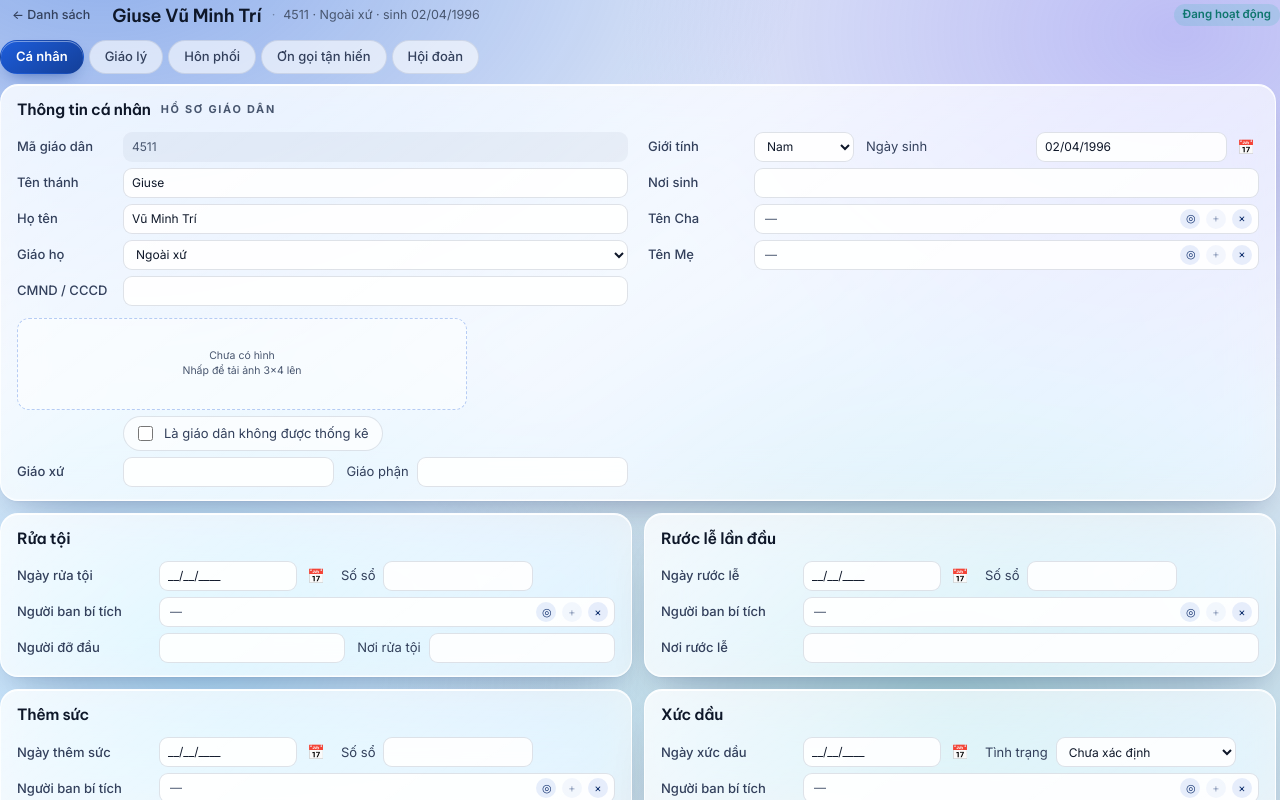
Test: GiaoDanDetailPage › xung dot RowVersion khi luu hon phoi hien thong bao tieng Viet
The image size is (1280, 800).
Check: the heading "Giuse Vũ Minh Trí" is shown, box [112, 2, 262, 28]
Click the tab "Hôn phối": (212, 57) [168, 40, 256, 74]
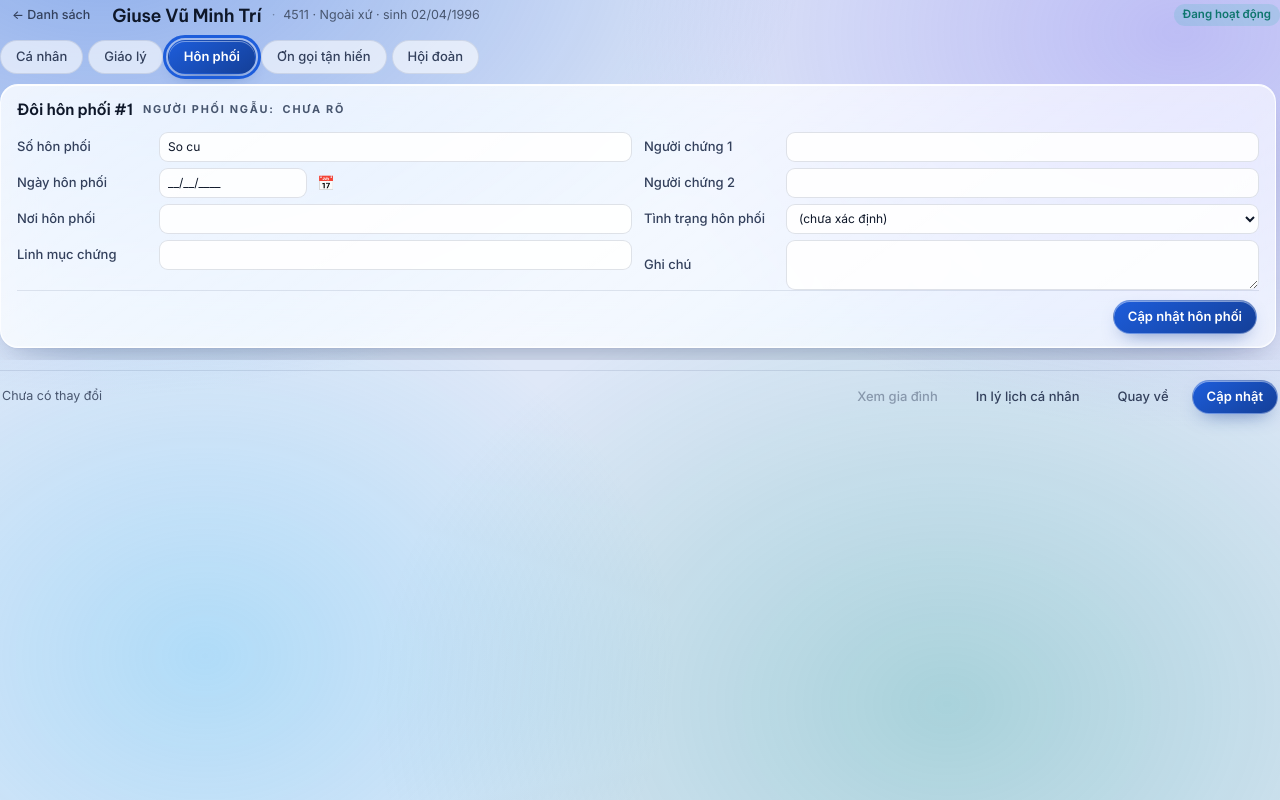
Check: the field showing "So cu" is shown, box [159, 132, 632, 162]
Click the button "Cập nhật hôn phối": (1185, 317) [1113, 300, 1257, 334]
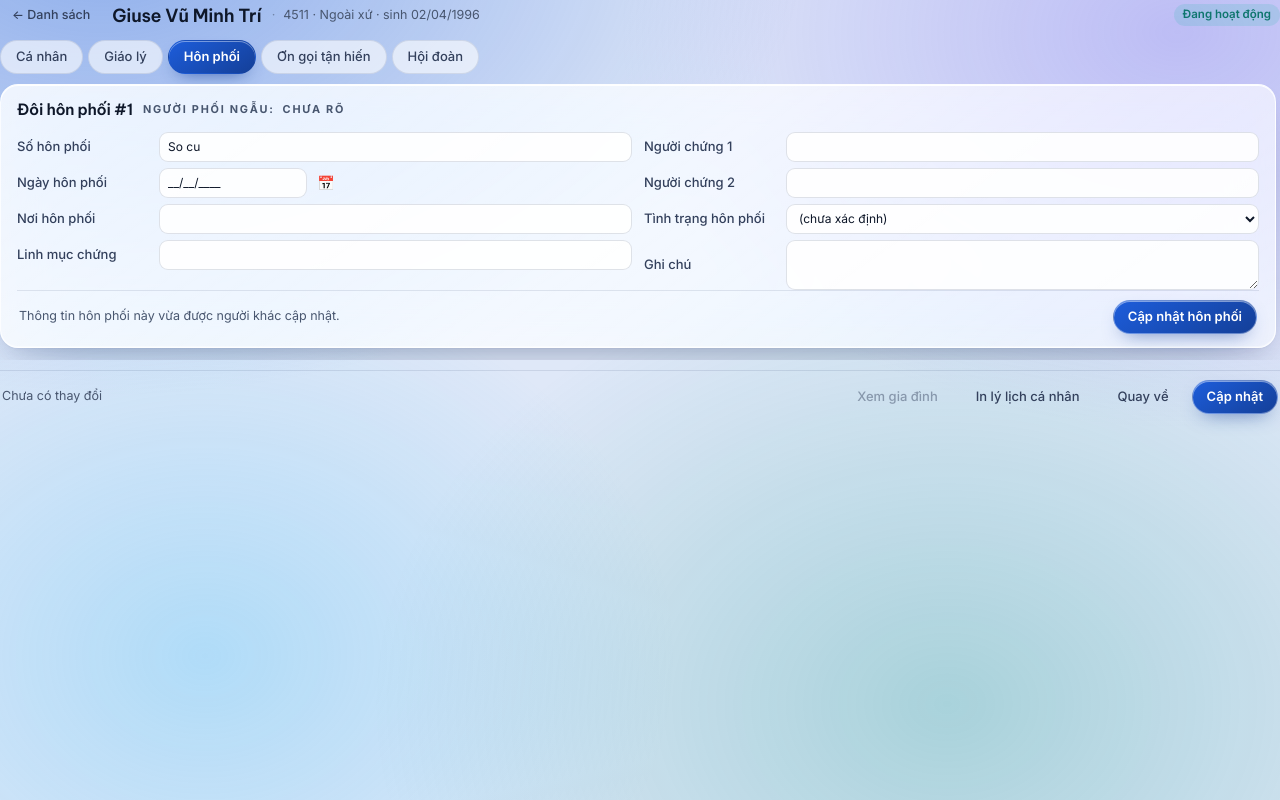
Check: the text "Thông tin hôn phối này vừa được người khác cập nhật." is shown, box [19, 307, 340, 326]
